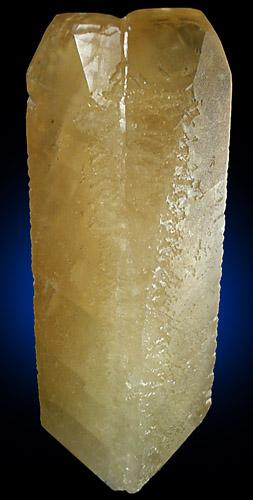calcite: (27, 8, 232, 494)
